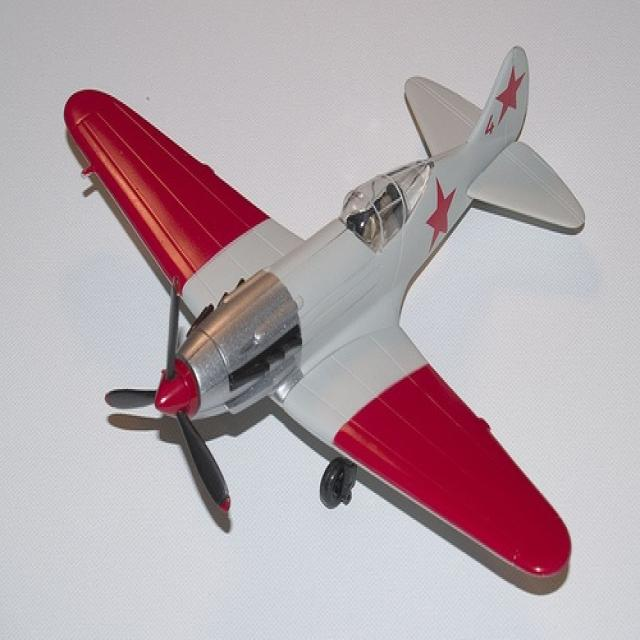aeroplane: (55, 41, 586, 592)
